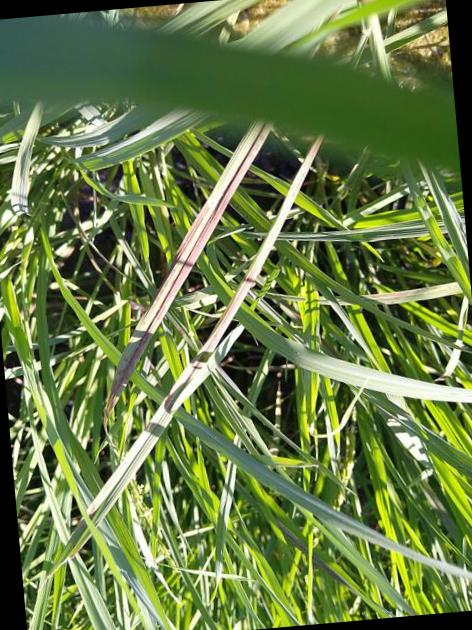Leaf Streak: (144, 134, 323, 435), (104, 120, 271, 416)
